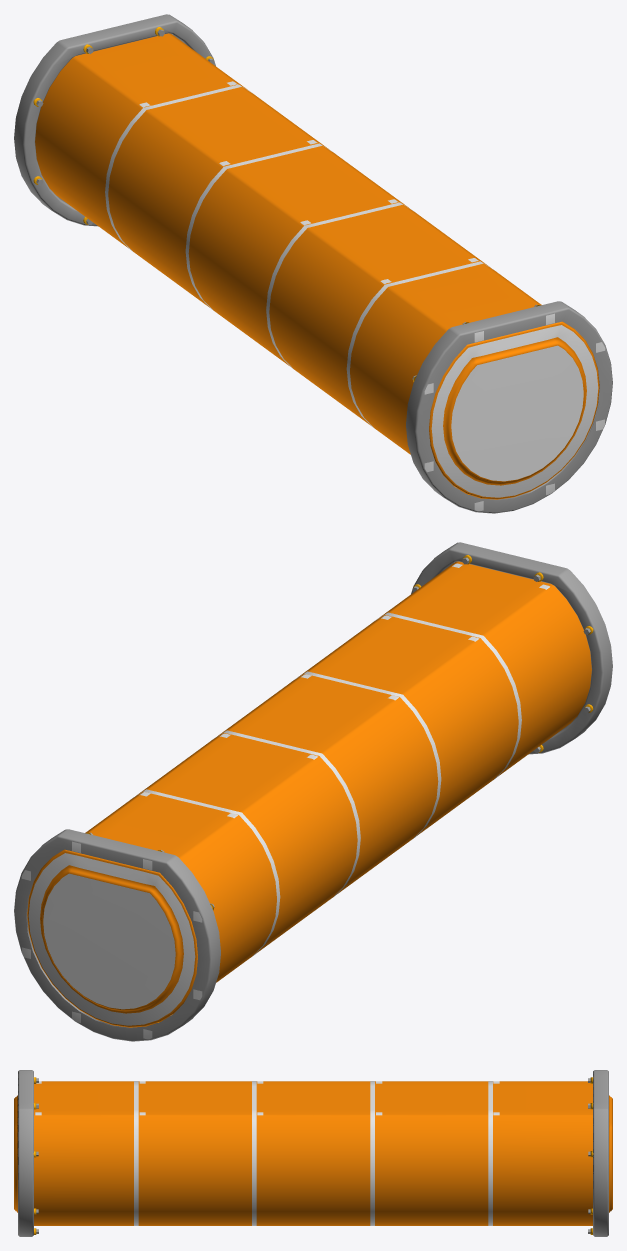
Rendered from LargePipeStraight.fbx.
3 renders of one model, top to bottom at view 1: azimuth 30°, elevation 25°; view 2: azimuth 150°, elevation 25°; view 3: azimuth 270°, elevation 25°, orthographic. The views are drawn at different scales.
Visible parts, largest first — view 1: Cylinder.014, Cylinder.015, StylizedHardSurface_Decals_017.004_projected.003, StylizedHardSurface_TrimDecals_010.002, StylizedHardSurface_Panels_008.009; view 2: Cylinder.014, Cylinder.015, StylizedHardSurface_Decals_017.004_projected.003, StylizedHardSurface_TrimDecals_010.002, StylizedHardSurface_Panels_008.009; view 3: Cylinder.014, Cylinder.015, StylizedHardSurface_Panels_008.009.
Part boxes in pixels (bbox=[...]): Cylinder.014: bbox=[35, 33, 599, 499]; Cylinder.015: bbox=[14, 14, 612, 513]; StylizedHardSurface_Decals_017.004_projected.003: bbox=[451, 345, 583, 481]; StylizedHardSurface_TrimDecals_010.002: bbox=[431, 325, 598, 497]; StylizedHardSurface_Panels_008.009: bbox=[105, 84, 494, 427]; Cylinder.014: bbox=[27, 561, 591, 1027]; Cylinder.015: bbox=[14, 542, 612, 1041]; StylizedHardSurface_Decals_017.004_projected.003: bbox=[43, 873, 175, 1009]; StylizedHardSurface_TrimDecals_010.002: bbox=[28, 853, 195, 1025]; StylizedHardSurface_Panels_008.009: bbox=[132, 612, 521, 955]; Cylinder.014: bbox=[14, 1081, 612, 1225]; Cylinder.015: bbox=[18, 1070, 608, 1236]; StylizedHardSurface_Panels_008.009: bbox=[134, 1081, 492, 1225].
Size of the model in its own units: 285 by 261 by 1014.
